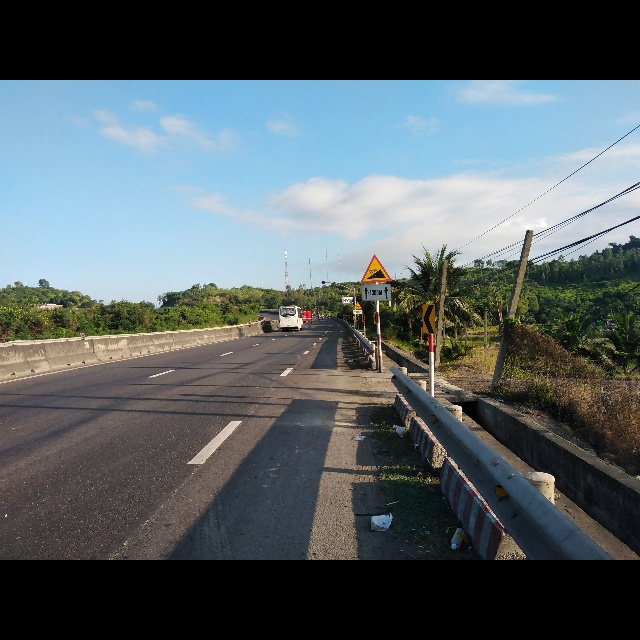Dốc lên nguy hiểm: (360, 253, 391, 284)
